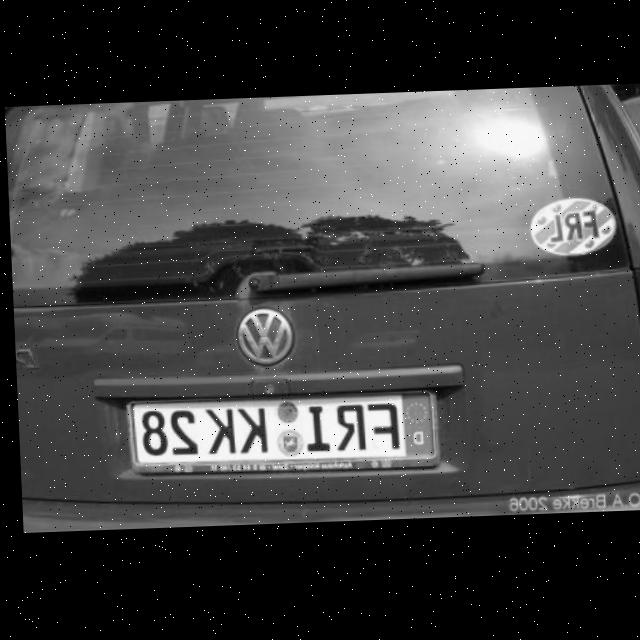license-plates: (127, 392, 437, 474)
